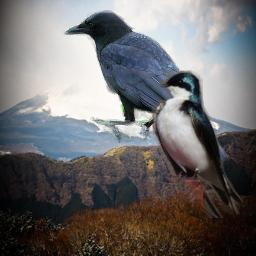Crow: (63, 10, 228, 171)
Swallow: (151, 70, 243, 218)
